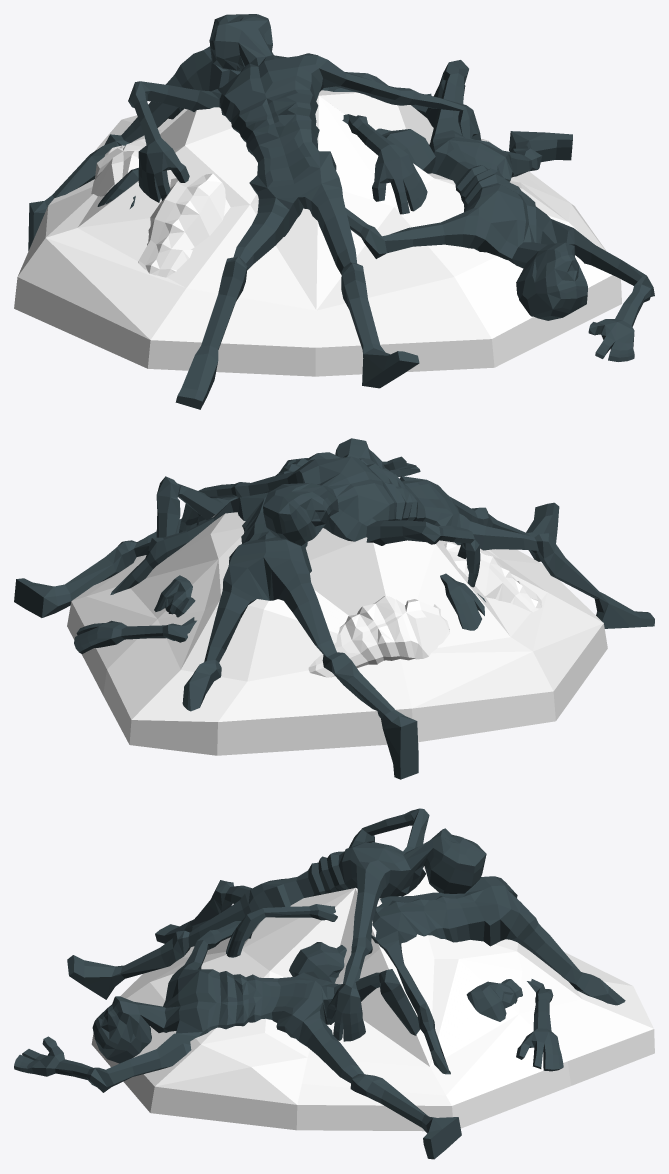
Rendered from body_pile.fbx.
The picture shows the model from 3 angles, top to bottom: view 1: azimuth 30°, elevation 25°; view 2: azimuth 150°, elevation 25°; view 3: azimuth 270°, elevation 25°; orthographic projection. The views are drawn at different scales.
Parts seen in each view (by area): view 1: body_pile; view 2: body_pile; view 3: body_pile.
Boxes of the visible parts, x1,y1,x2,y2 form: body_pile: (14, 14, 654, 409); body_pile: (14, 438, 654, 779); body_pile: (14, 808, 654, 1159).
Size of the model in its own units: 1134 by 460 by 1260.
